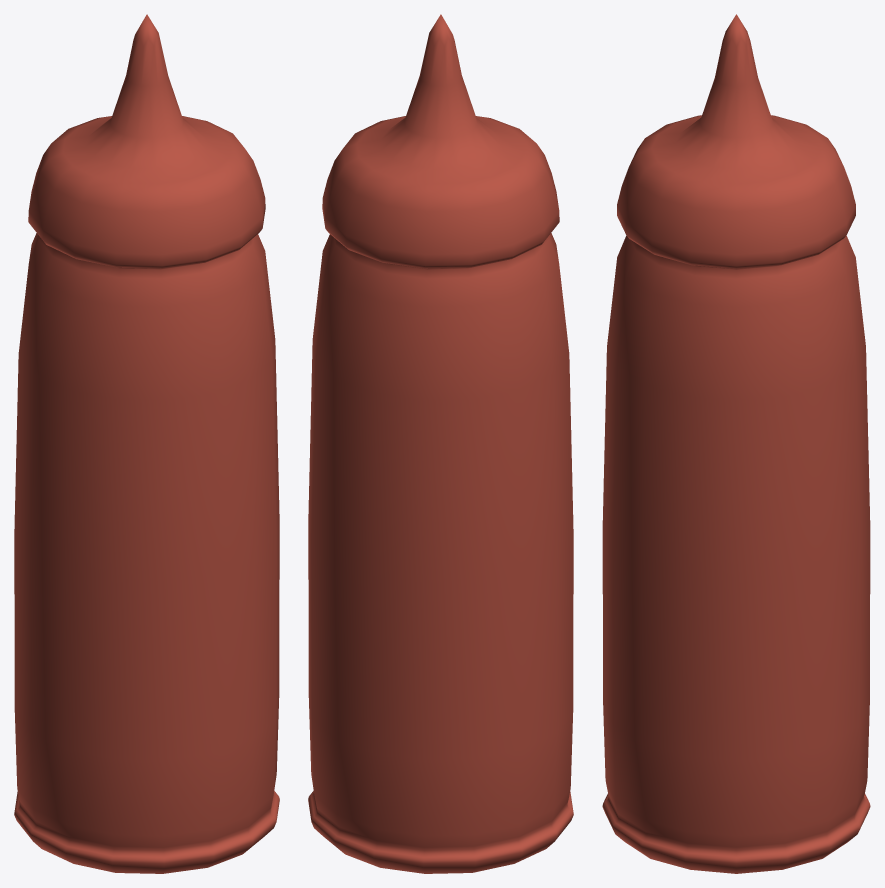
Rendered from kethcup.fbx.
3 renders of one model, left to right at view 1: azimuth 30°, elevation 25°; view 2: azimuth 150°, elevation 25°; view 3: azimuth 270°, elevation 25°, orthographic.
Visible parts, largest first — view 1: KetchupBottle; view 2: KetchupBottle; view 3: KetchupBottle.
Part boxes in pixels (x1=…): KetchupBottle: x1=14, y1=14, x2=279, y2=873; KetchupBottle: x1=308, y1=14, x2=573, y2=873; KetchupBottle: x1=602, y1=14, x2=870, y2=873.
Size of the model in its own units: 44.89 by 44.89 by 152.
